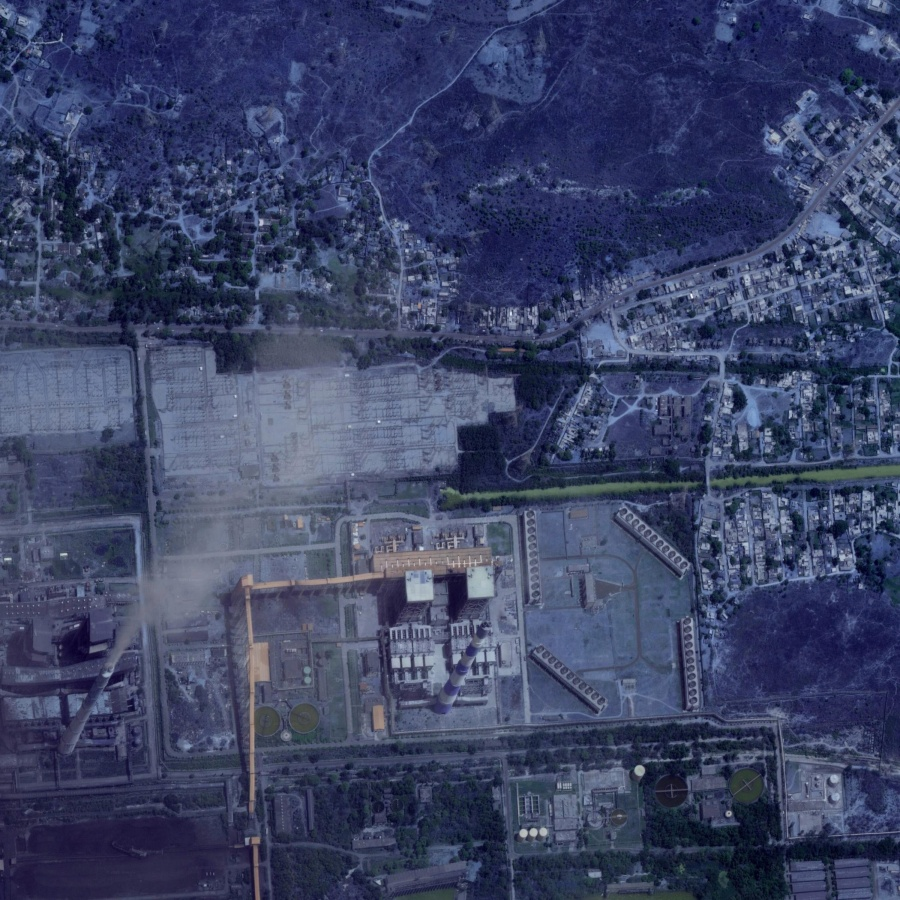PowerPlant: (382, 548, 506, 728)
